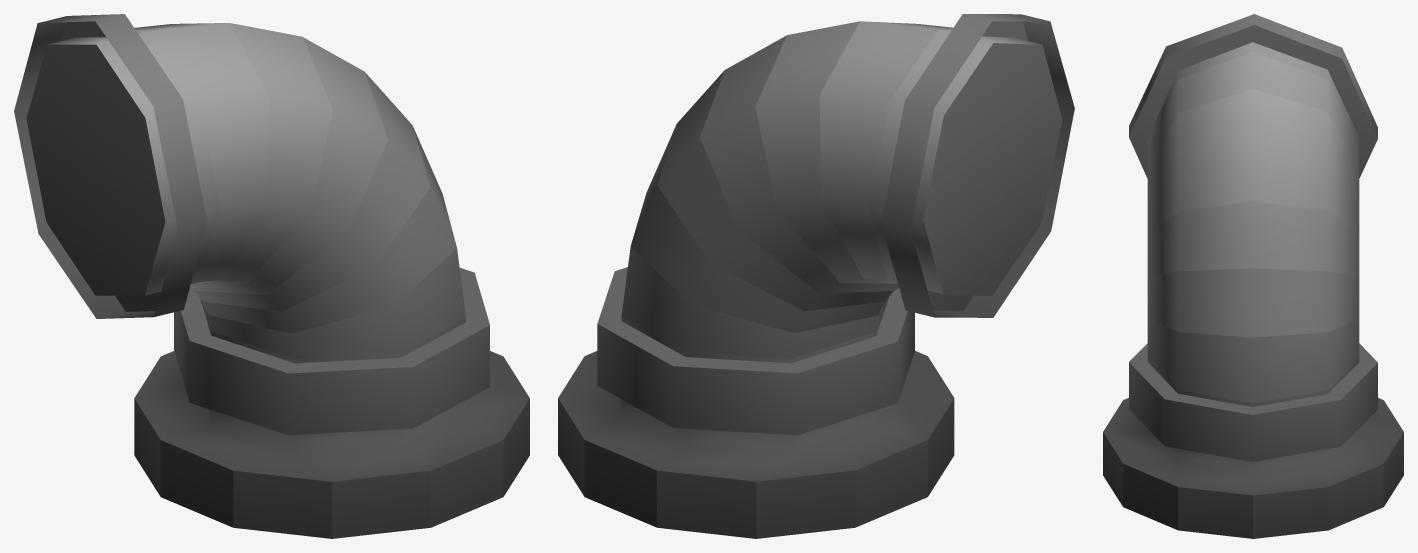
Rendered from Pipe_CornerGround.glb.
3 views of the same model, side by side, from view 1: azimuth 30°, elevation 25°; view 2: azimuth 150°, elevation 25°; view 3: azimuth 270°, elevation 25° (orthographic). The views are drawn at different scales.
Visible parts, largest first — view 1: Pipe_CornerGround; view 2: Pipe_CornerGround; view 3: Pipe_CornerGround.
Boxes of the visible parts, <box> form: Pipe_CornerGround: <box>14,14,529,538</box>; Pipe_CornerGround: <box>558,14,1074,538</box>; Pipe_CornerGround: <box>1103,14,1403,538</box>.
Size of the model in its own units: 0.4313 by 0.497 by 0.3627.
Materials: 1 (1 with a texture image).
